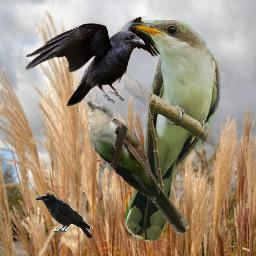Crow: (24, 16, 162, 106), (35, 193, 93, 238)
Cuckoo: (124, 20, 221, 242), (87, 101, 189, 234)
